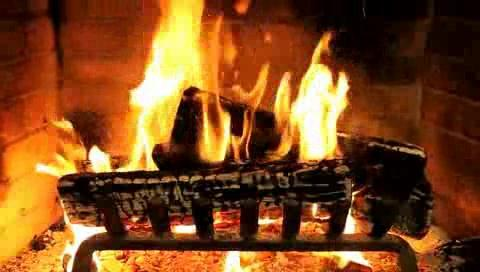fire: (127, 9, 345, 166)
